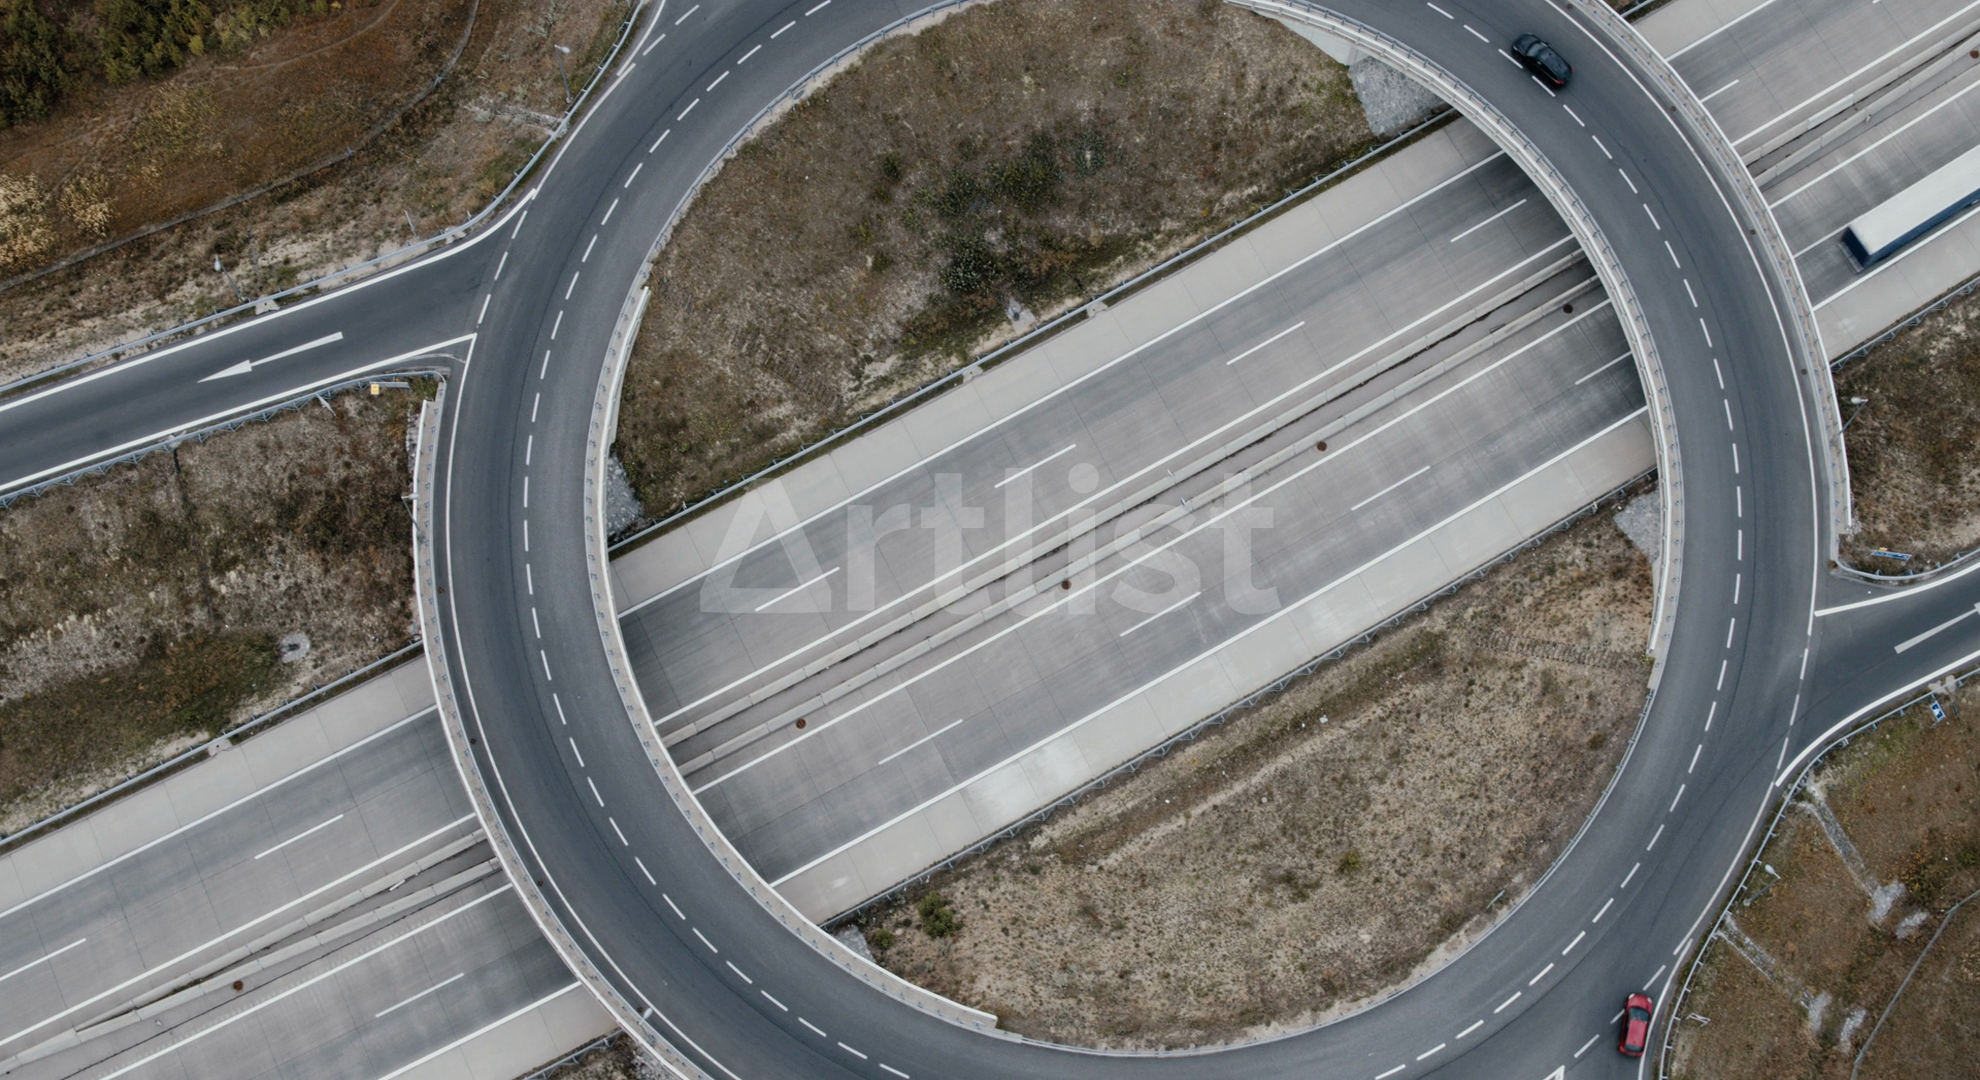car: (1504, 41, 1580, 77), (1618, 995, 1649, 1063)
